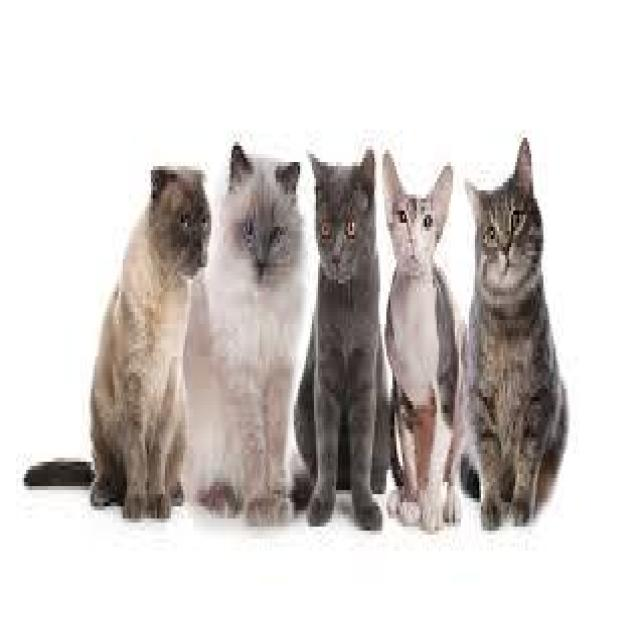Cat: (463, 133, 550, 316), (225, 139, 307, 303), (378, 137, 458, 290), (307, 144, 378, 286), (145, 158, 210, 284)
